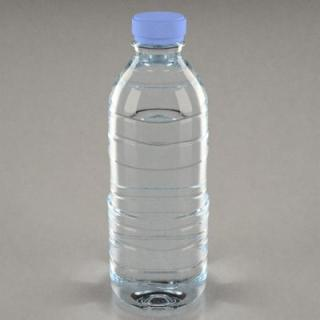Anorganik: (100, 5, 214, 312)
